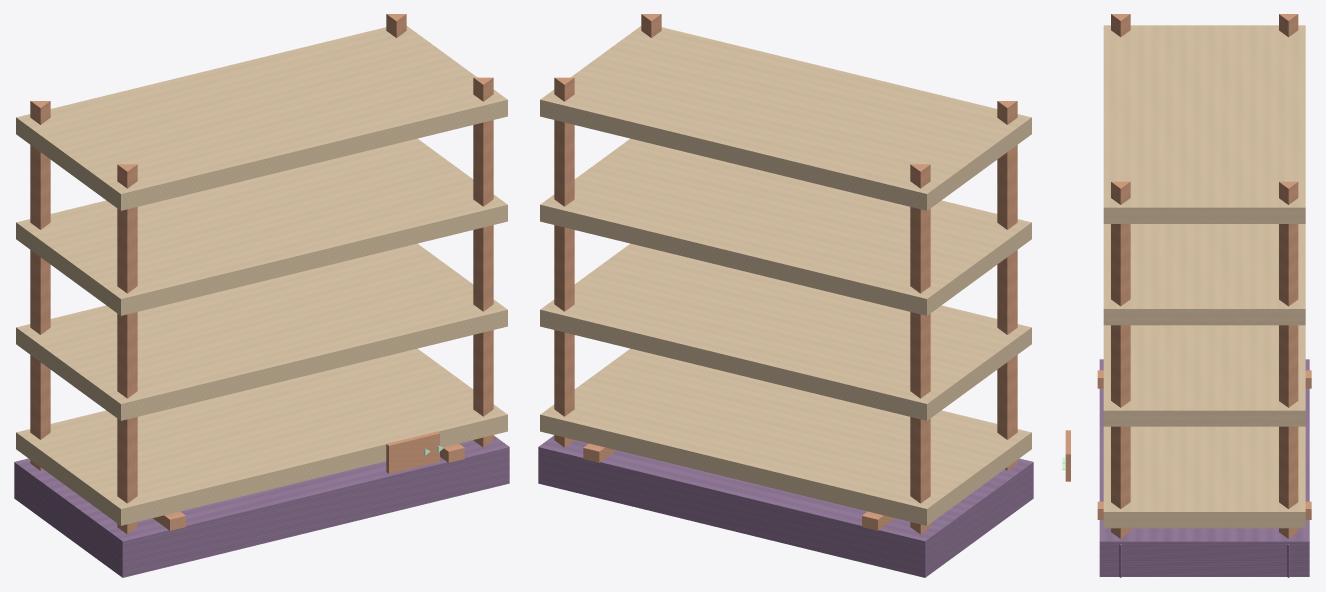
File: atlas100-s090-a06.lod1.glb
The picture shows the model from 3 angles, left to right: view 1: azimuth 30°, elevation 25°; view 2: azimuth 150°, elevation 25°; view 3: azimuth 270°, elevation 25°; orthographic projection. The views are drawn at different scales.
Visible parts, largest first — view 1: atlas100-s090-a06:part-014, atlas100-s090-a06:part-012, atlas100-s090-a06:part-013, atlas100-s090-a06:part-011, atlas100-s090-a06:part-000, atlas100-s090-a06:part-005, atlas100-s090-a06:part-009, atlas100-s090-a06:part-003, atlas100-s090-a06:part-015; view 2: atlas100-s090-a06:part-014, atlas100-s090-a06:part-011, atlas100-s090-a06:part-012, atlas100-s090-a06:part-013, atlas100-s090-a06:part-000, atlas100-s090-a06:part-003, atlas100-s090-a06:part-007, atlas100-s090-a06:part-005; view 3: atlas100-s090-a06:part-014, atlas100-s090-a06:part-011, atlas100-s090-a06:part-013, atlas100-s090-a06:part-012, atlas100-s090-a06:part-000, atlas100-s090-a06:part-009, atlas100-s090-a06:part-007, atlas100-s090-a06:part-005, atlas100-s090-a06:part-003.
Boxes of the visible parts, x1=… form: atlas100-s090-a06:part-014: x1=16, y1=26, x2=507, y2=210; atlas100-s090-a06:part-012: x1=16, y1=243, x2=507, y2=420; atlas100-s090-a06:part-013: x1=16, y1=138, x2=507, y2=315; atlas100-s090-a06:part-011: x1=16, y1=348, x2=507, y2=525; atlas100-s090-a06:part-000: x1=14, y1=435, x2=509, y2=577; atlas100-s090-a06:part-005: x1=117, y1=164, x2=137, y2=534; atlas100-s090-a06:part-009: x1=473, y1=77, x2=493, y2=447; atlas100-s090-a06:part-003: x1=30, y1=101, x2=50, y2=470; atlas100-s090-a06:part-015: x1=386, y1=431, x2=439, y2=473; atlas100-s090-a06:part-014: x1=540, y1=26, x2=1031, y2=210; atlas100-s090-a06:part-011: x1=540, y1=348, x2=1031, y2=525; atlas100-s090-a06:part-012: x1=540, y1=243, x2=1031, y2=420; atlas100-s090-a06:part-013: x1=540, y1=138, x2=1031, y2=315; atlas100-s090-a06:part-000: x1=538, y1=435, x2=1033, y2=577; atlas100-s090-a06:part-003: x1=910, y1=164, x2=930, y2=534; atlas100-s090-a06:part-007: x1=554, y1=77, x2=574, y2=447; atlas100-s090-a06:part-005: x1=997, y1=101, x2=1017, y2=470; atlas100-s090-a06:part-014: x1=1103, y1=25, x2=1305, y2=223; atlas100-s090-a06:part-011: x1=1103, y1=426, x2=1305, y2=528; atlas100-s090-a06:part-013: x1=1103, y1=224, x2=1305, y2=325; atlas100-s090-a06:part-012: x1=1103, y1=325, x2=1305, y2=426; atlas100-s090-a06:part-000: x1=1099, y1=359, x2=1309, y2=576; atlas100-s090-a06:part-009: x1=1111, y1=181, x2=1130, y2=538; atlas100-s090-a06:part-007: x1=1279, y1=181, x2=1298, y2=538; atlas100-s090-a06:part-005: x1=1111, y1=14, x2=1130, y2=37; atlas100-s090-a06:part-003: x1=1279, y1=14, x2=1298, y2=37.
Size of the model in its own units: 2.89 by 2.84 by 1.66.
4 materials, 4 textured.
